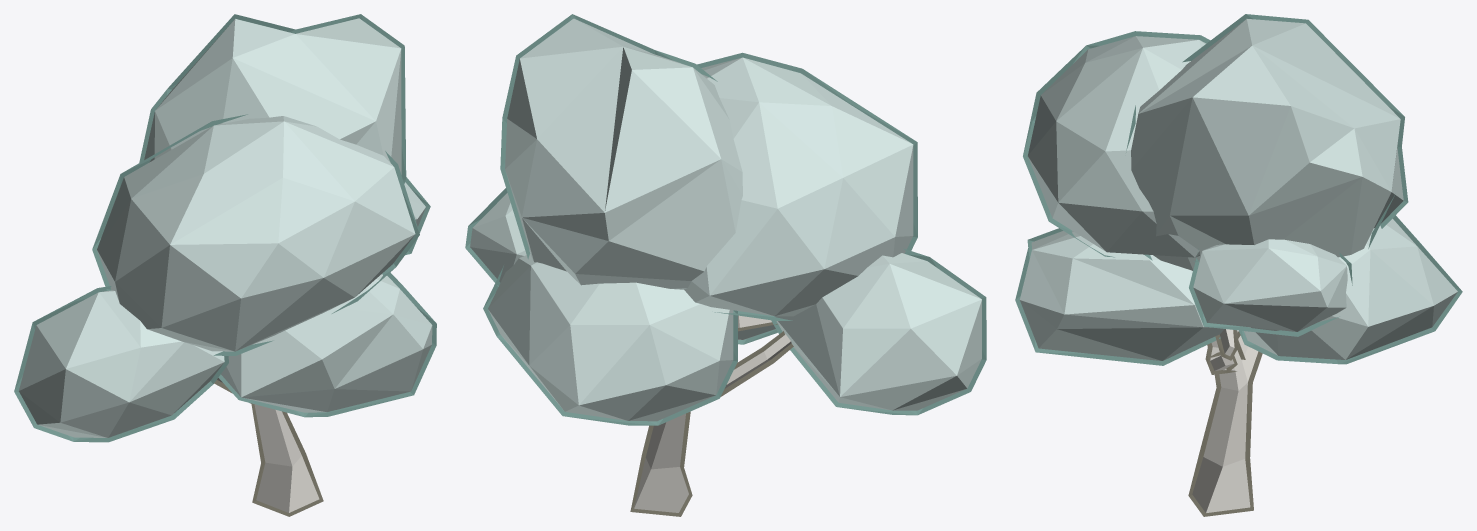
Rendered from tree-2.glb.
3 views of the same model, side by side, from view 1: azimuth 30°, elevation 25°; view 2: azimuth 150°, elevation 25°; view 3: azimuth 270°, elevation 25° (orthographic). The views are drawn at different scales.
Parts seen in each view (by area): view 1: mergedFoliage.004, mergedFoliage.005, mergedTrunks.002; view 2: mergedFoliage.004, mergedFoliage.005, mergedTrunks.002; view 3: mergedFoliage.004, mergedFoliage.005, mergedTrunks.002.
Boxes of the visible parts, <box> form: mergedFoliage.004: <box>19,18,432,437</box>; mergedFoliage.005: <box>14,14,436,516</box>; mergedTrunks.002: <box>217,378,319,512</box>; mergedFoliage.004: <box>470,18,981,421</box>; mergedFoliage.005: <box>465,14,986,516</box>; mergedTrunks.002: <box>634,315,791,512</box>; mergedFoliage.004: <box>1020,19,1457,360</box>; mergedFoliage.005: <box>1015,14,1462,516</box>; mergedTrunks.002: <box>1192,329,1258,512</box>.
Bounding box in the file's own units: 12.64 × 13.05 × 11.08.
